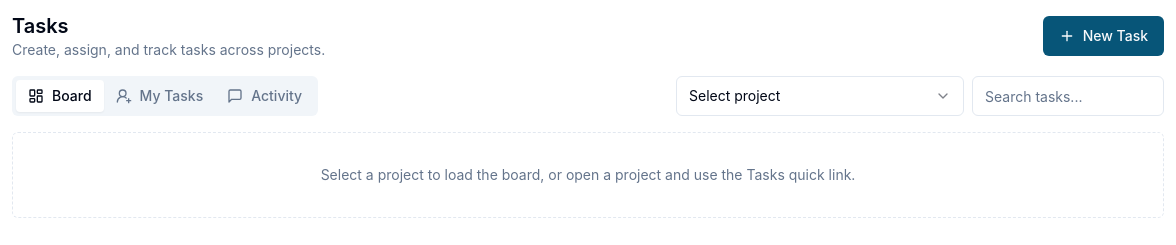
Scenario: TasksPage › shows my tasks tab
Click the tab "My Tasks" at (159, 96), box [104, 80, 215, 112]
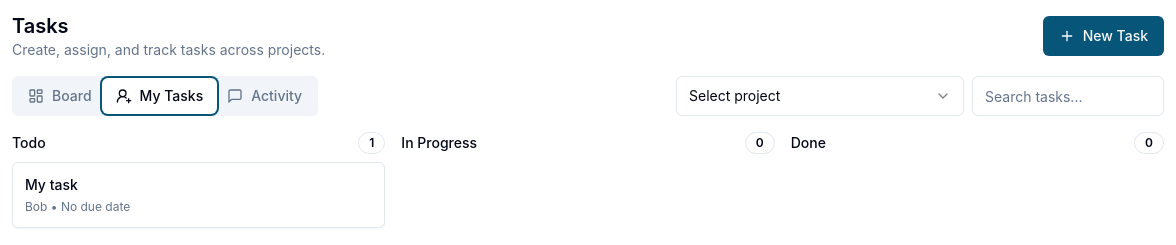
Check: the text "My task" is shown, box [25, 176, 78, 193]
